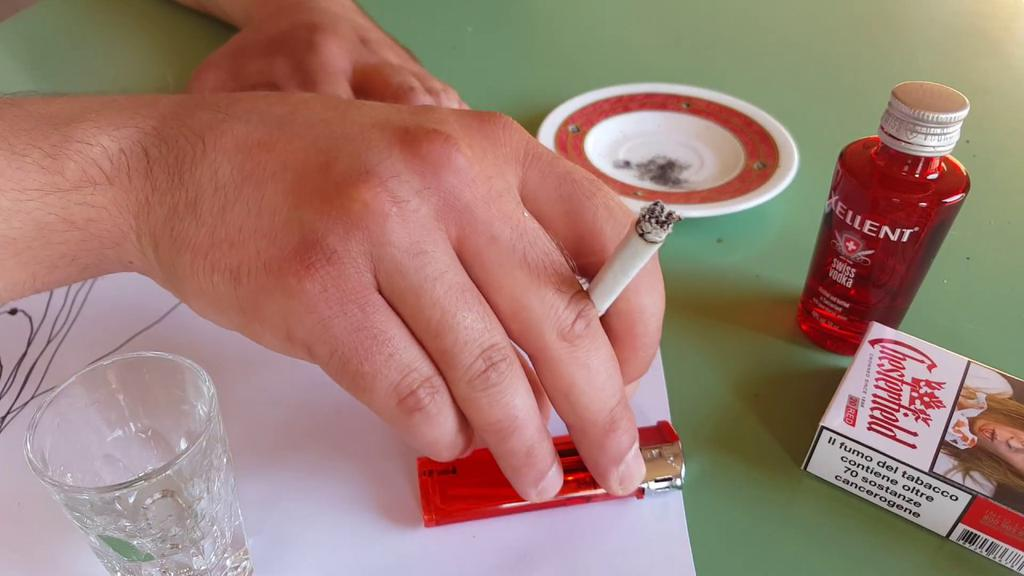chesterfield_red: (838, 329, 1017, 477)
